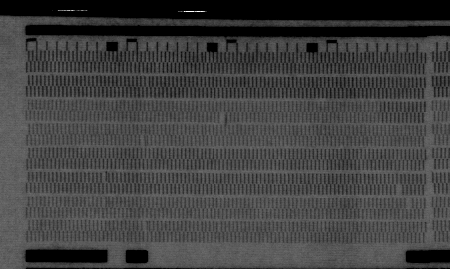Broken hole: (217, 110, 228, 124), (394, 185, 405, 198), (405, 198, 414, 210)
Oblique printing: (138, 134, 149, 147), (140, 219, 151, 231), (99, 171, 109, 183)
